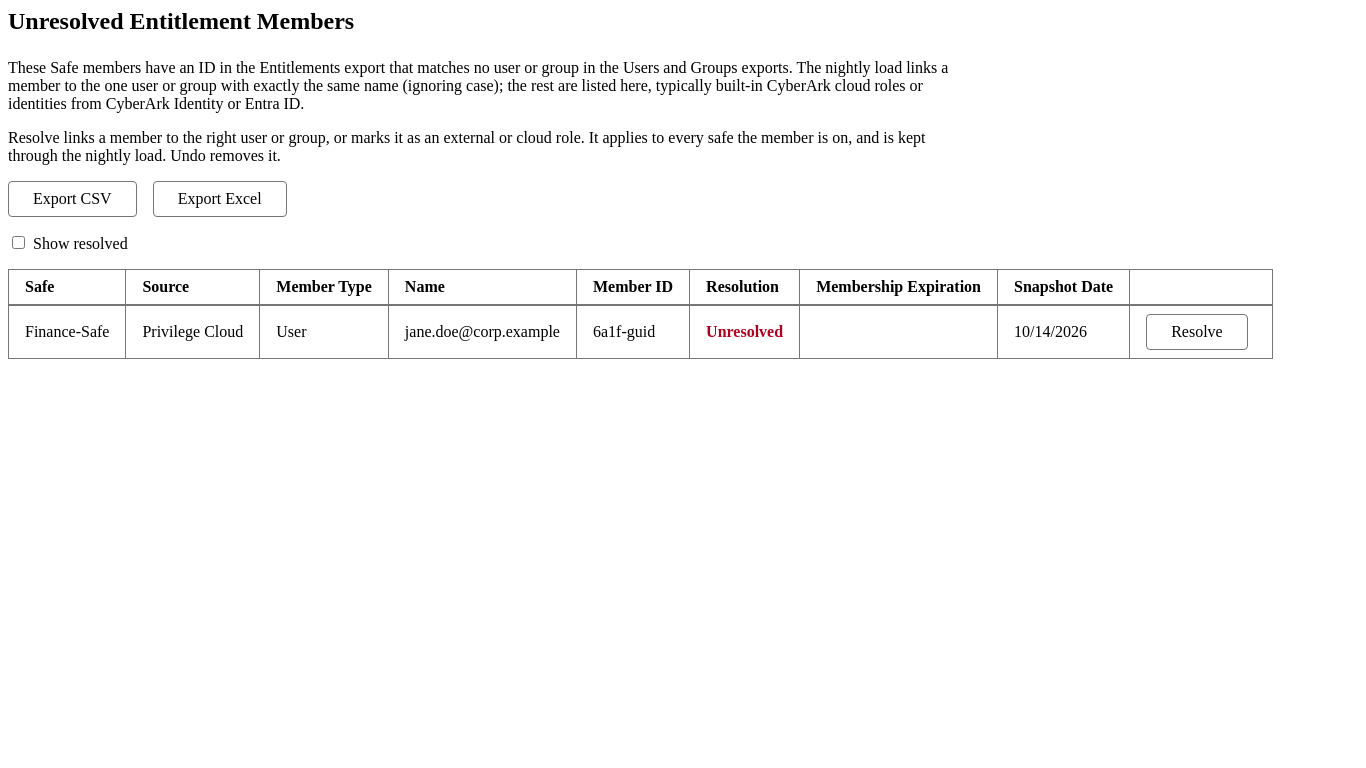
UnresolvedEntitlementMembers.vue › Resolve pre-fills the one user with exactly that name, and posts the link
Click the button "Resolve".
click(1197, 332)  # box [1146,314,1248,350]
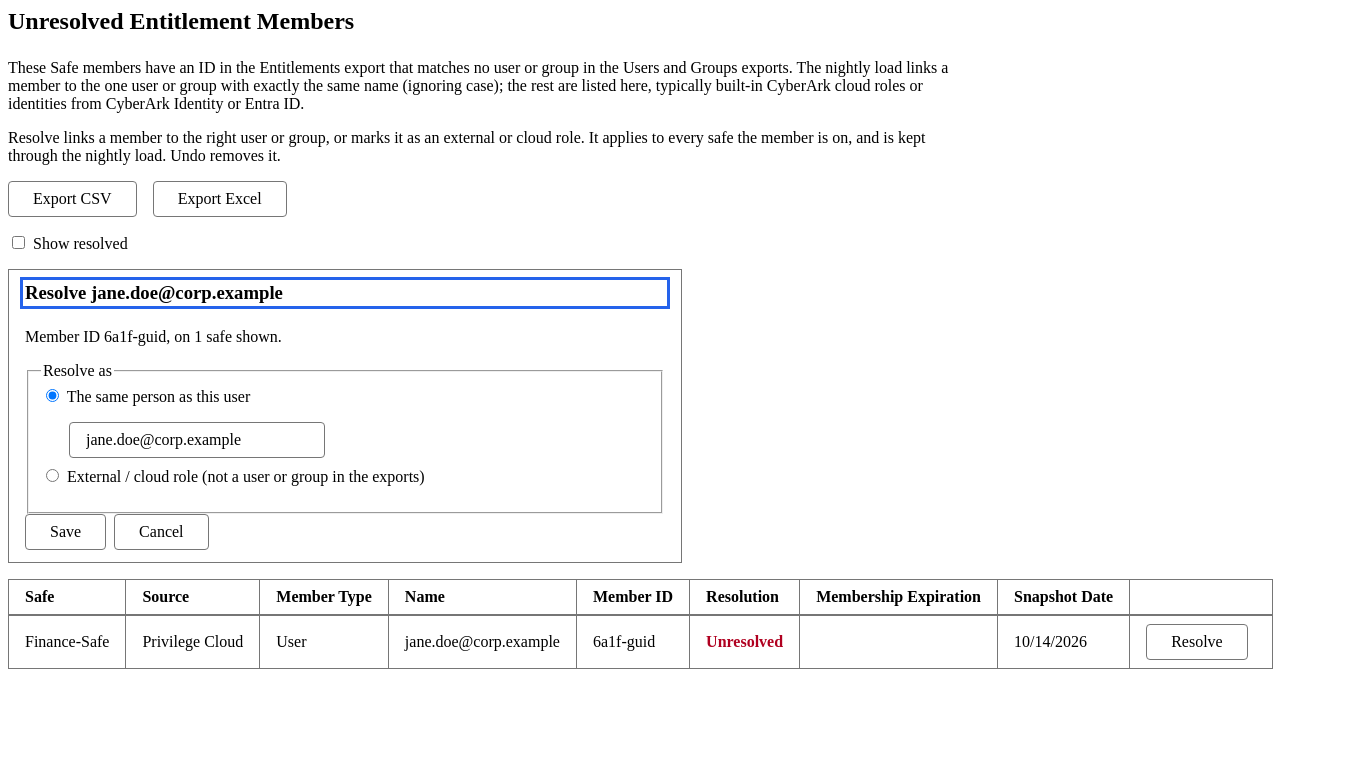
Check: the heading "Resolve jane.doe@corp.example" is shown, box [25,282,283,303]
Check: the dropdown named "User" holds "jane.doe@corp.example", box [69,422,325,458]
Click the button "Save".
click(66, 532)  # box [25,514,106,550]
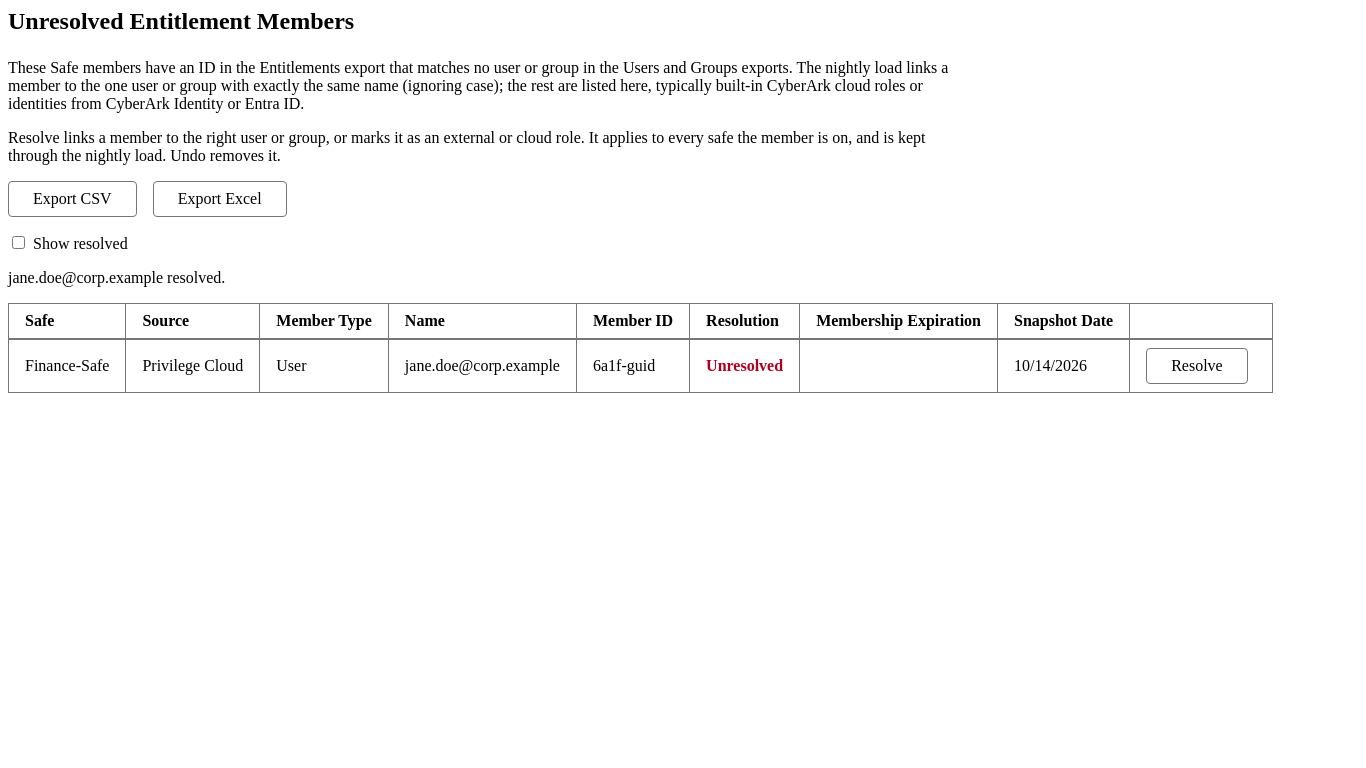
Check: the message "jane.doe@corp.example resolved." is shown, box [8,269,225,286]
